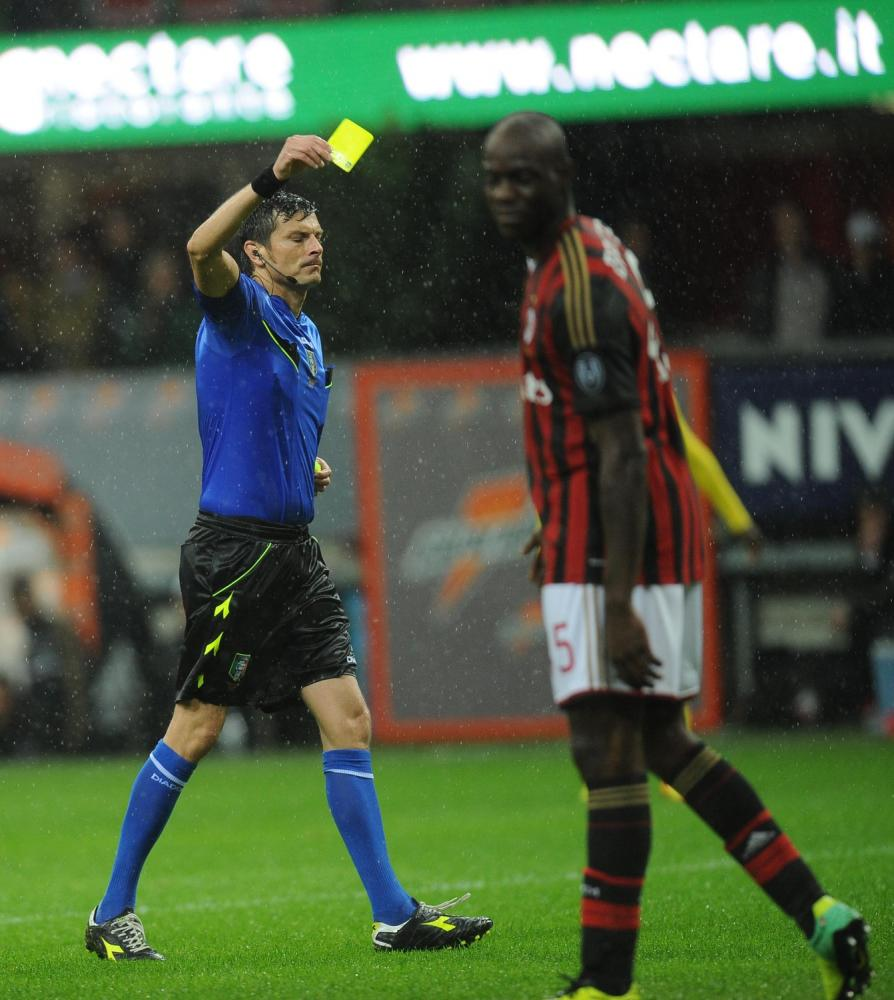yellow_card: (272, 103, 395, 187)
